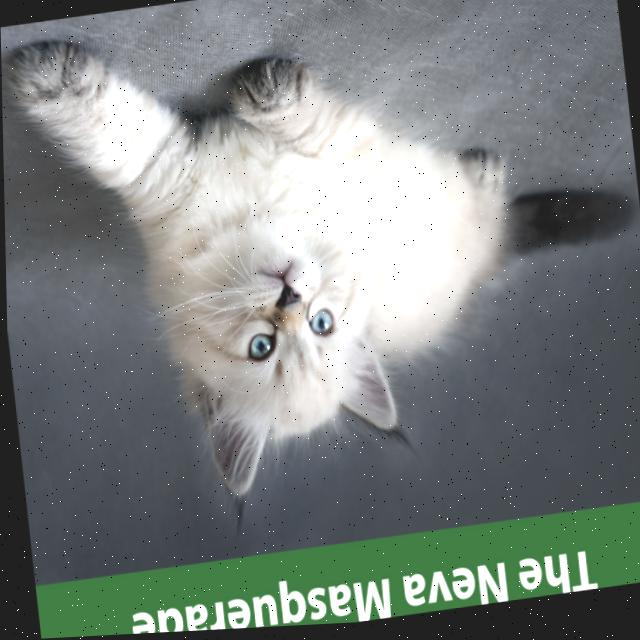Neva Masquerade: (0, 0, 640, 543)
